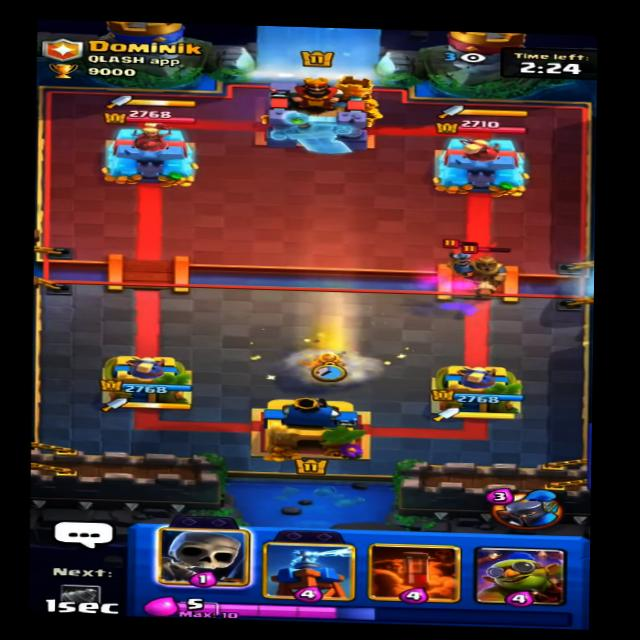bomber: (435, 235, 487, 276)
prince: (458, 240, 515, 302)
